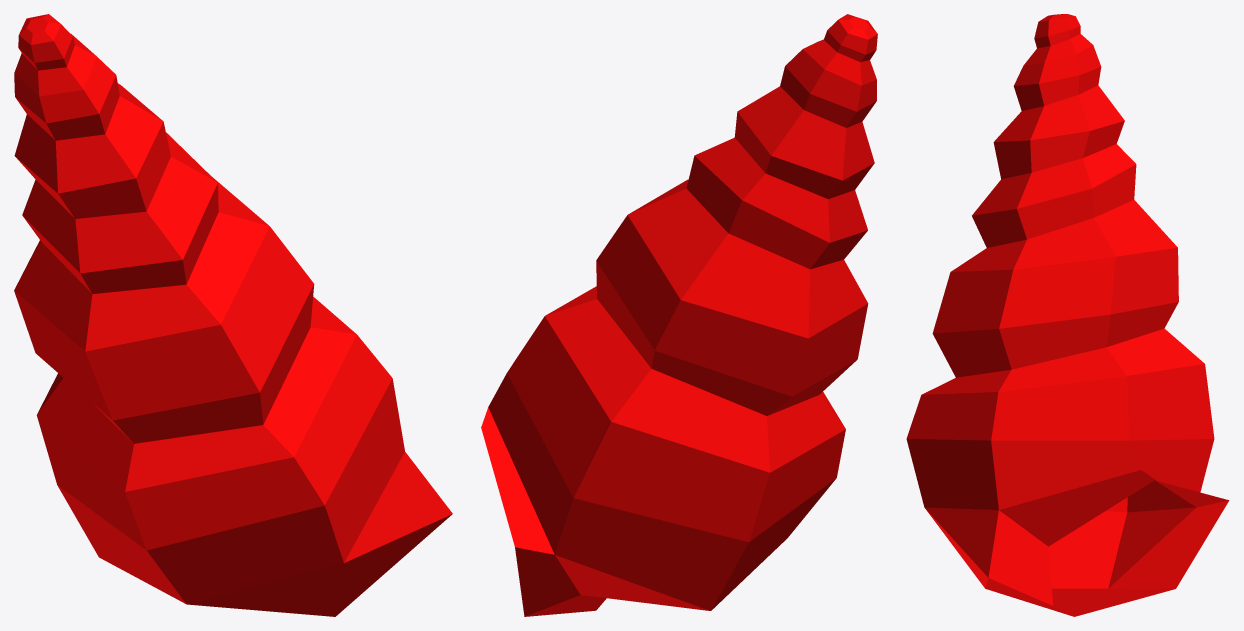
The model's file is SeaObj05.fbx.
The picture shows the model from 3 angles, left to right: view 1: azimuth 30°, elevation 25°; view 2: azimuth 150°, elevation 25°; view 3: azimuth 270°, elevation 25°; orthographic projection. The views are drawn at different scales.
Visible parts, largest first — view 1: Plane.042; view 2: Plane.042; view 3: Plane.042.
Part boxes in pixels (bbox=[...]): Plane.042: bbox=[14, 14, 452, 616]; Plane.042: bbox=[481, 14, 877, 616]; Plane.042: bbox=[906, 14, 1229, 616].
Size of the model in its own units: 94.58 by 154 by 88.79.
